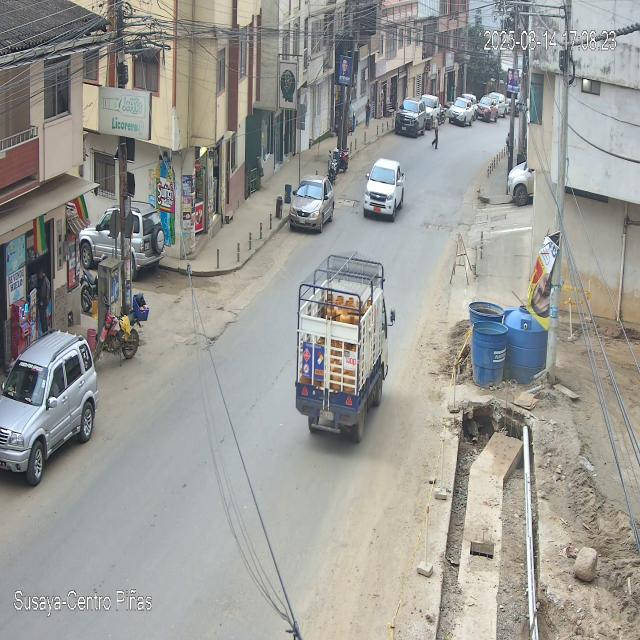CMT: (363, 159, 406, 223)
TRUCK: (296, 255, 392, 444)
